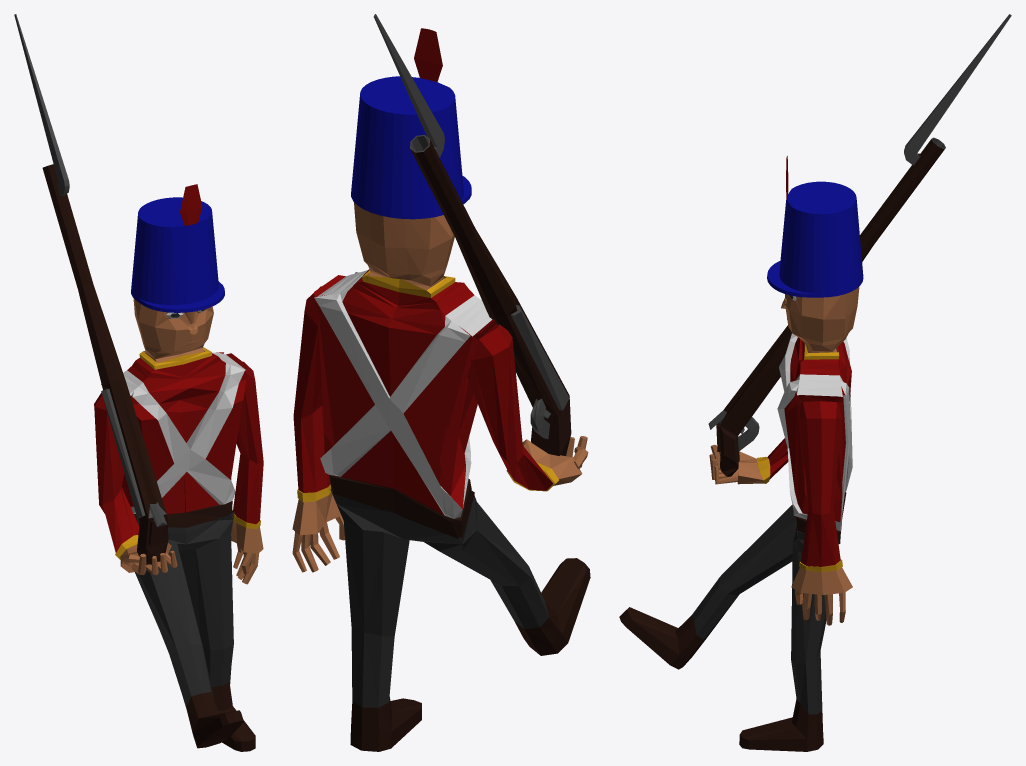
File: Infantry_000174.obj
3 views of the same model, side by side, from view 1: azimuth 30°, elevation 25°; view 2: azimuth 150°, elevation 25°; view 3: azimuth 270°, elevation 25° (orthographic). The views are drawn at different scales.
Visible parts, largest first — view 1: {Man}_Circle, {Mesket}_Cube.001; view 2: {Man}_Circle, {Mesket}_Cube.001; view 3: {Man}_Circle, {Mesket}_Cube.001.
Boxes of the visible parts, x1=… form: {Man}_Circle: x1=94, y1=184, x2=263, y2=751; {Mesket}_Cube.001: x1=14, y1=14, x2=168, y2=564; {Man}_Circle: x1=292, y1=28, x2=590, y2=751; {Mesket}_Cube.001: x1=373, y1=14, x2=571, y2=455; {Man}_Circle: x1=619, y1=156, x2=863, y2=751; {Mesket}_Cube.001: x1=708, y1=14, x2=1011, y2=476.
Bounding box in the file's own units: 5.63 × 19.62 × 10.27.
